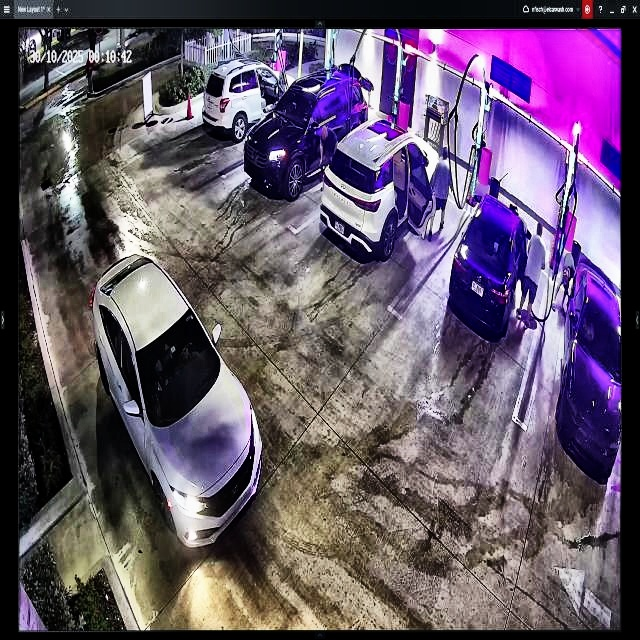Car: (89, 253, 265, 551), (322, 120, 444, 260), (242, 65, 368, 194), (452, 197, 529, 335)
